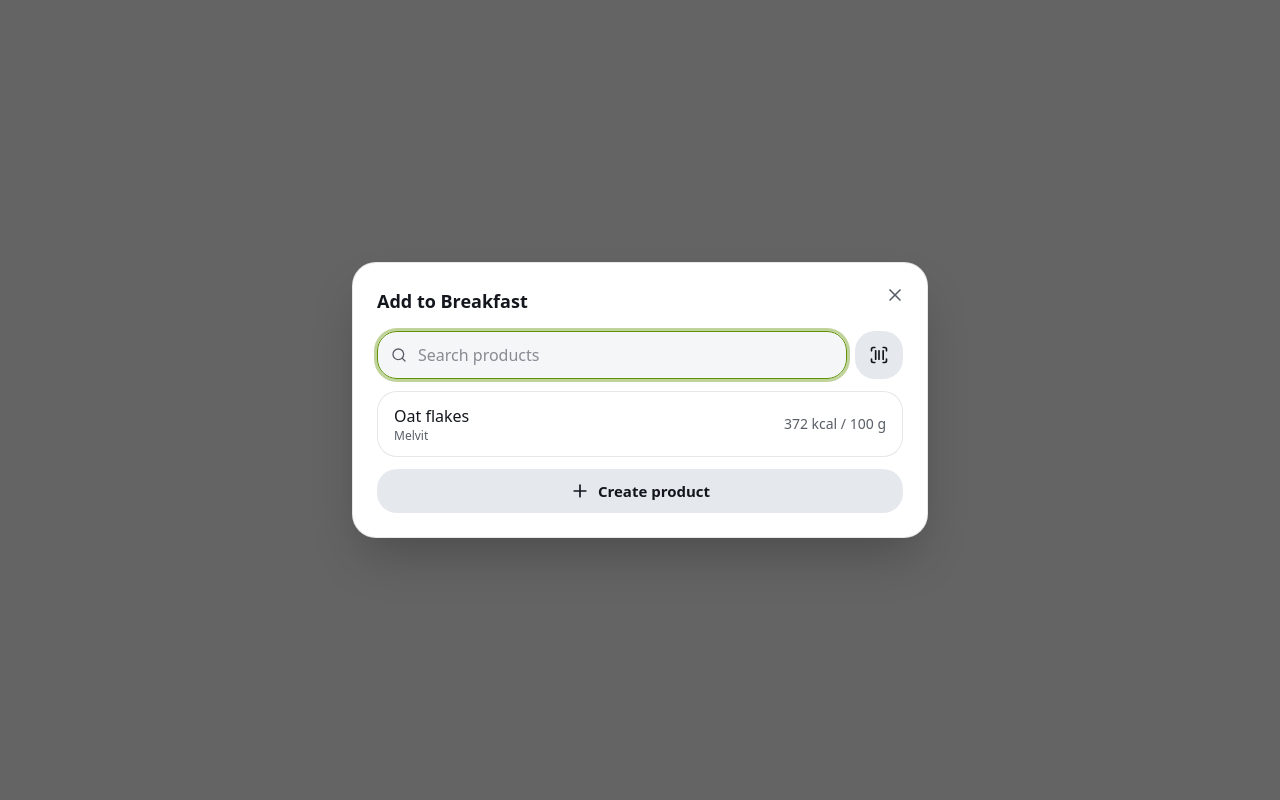
Test case: does not save an invalid amount ()
The image size is (1280, 800).
Click the button "Oat flakes Melvit 372 kcal / 100 g": (432, 416) [377,391,903,457]
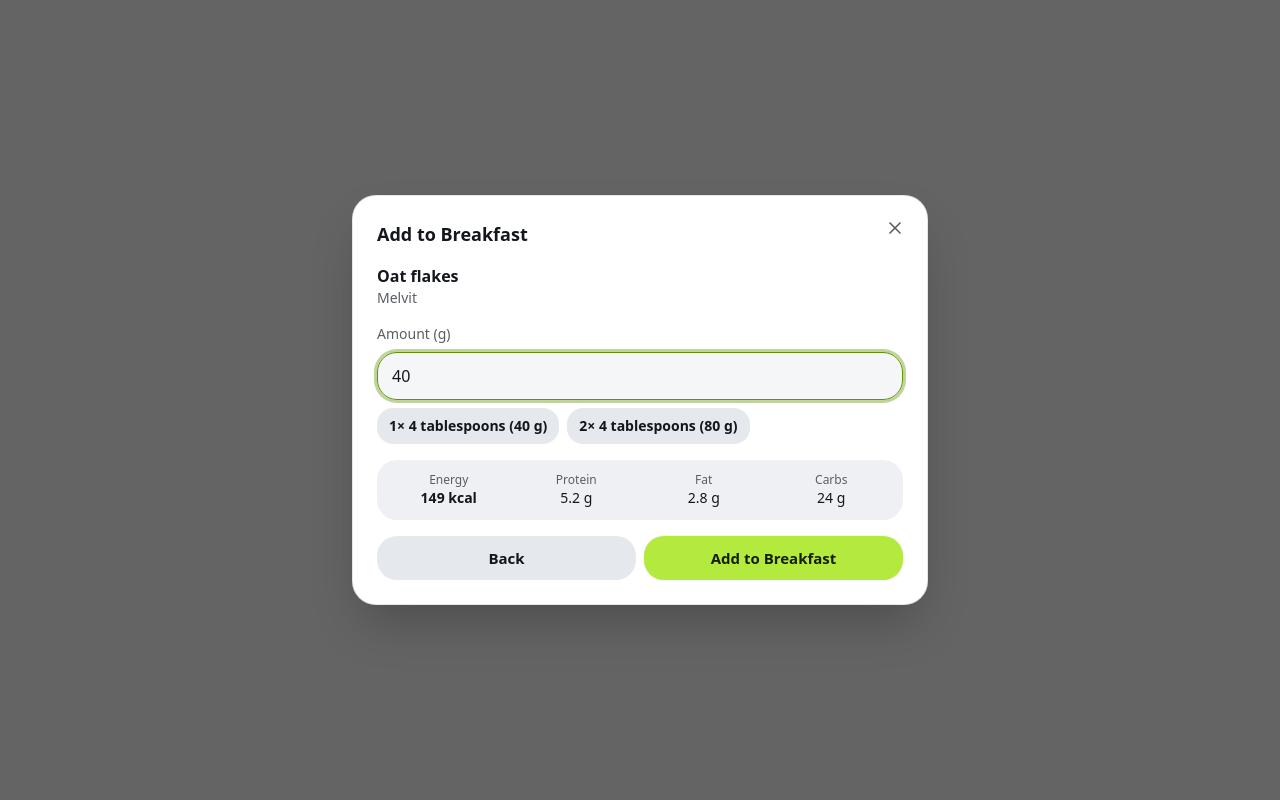
Clear the number field labelled "Amount (g)": (640, 376) [377,352,903,400]
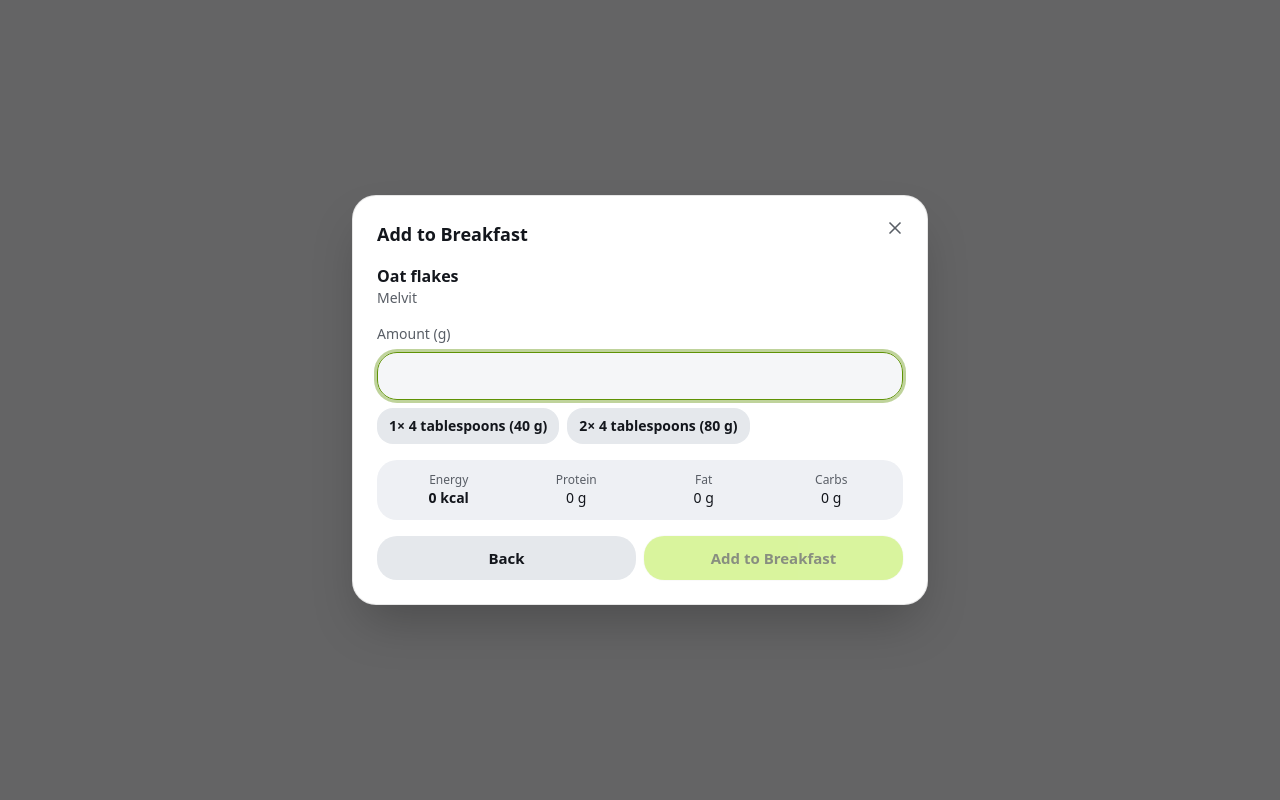
Now the button "Add to Breakfast" is disabled, box [644,536,903,580]
